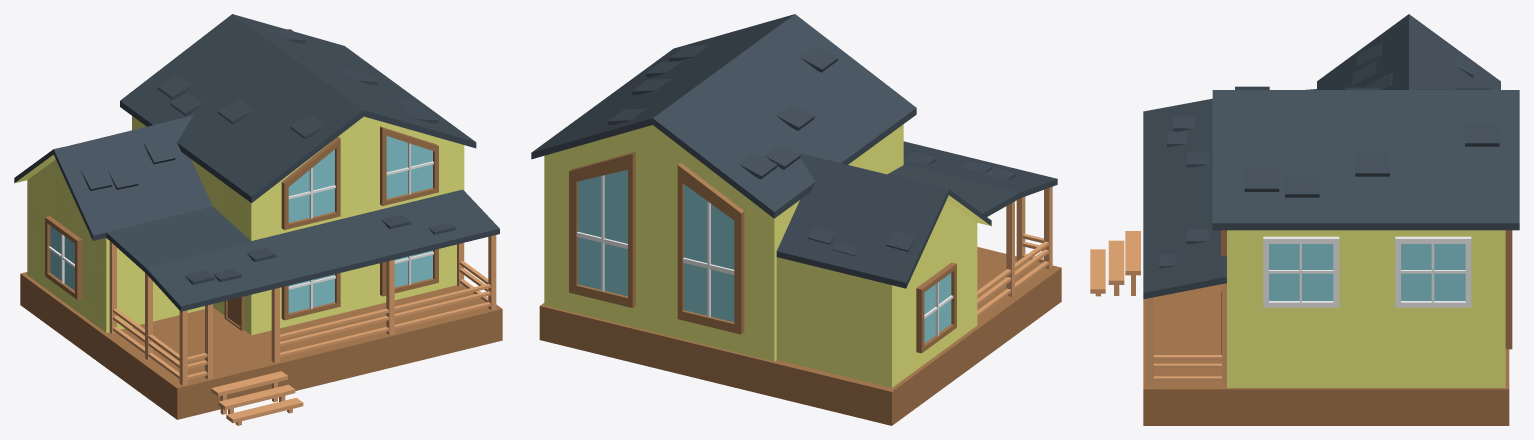
Rendered from new_house3.fbx.
The picture shows the model from 3 angles, left to right: view 1: azimuth 30°, elevation 25°; view 2: azimuth 150°, elevation 25°; view 3: azimuth 270°, elevation 25°; orthographic projection. The views are drawn at different scales.
Visible parts, largest first — view 1: дом3; view 2: дом3; view 3: дом3.
Boxes of the visible parts, x1=… form: дом3: x1=14, y1=14, x2=502, y2=425; дом3: x1=531, y1=14, x2=1061, y2=425; дом3: x1=1090, y1=14, x2=1519, y2=425.
Size of the model in its own units: 318 by 212 by 300.
